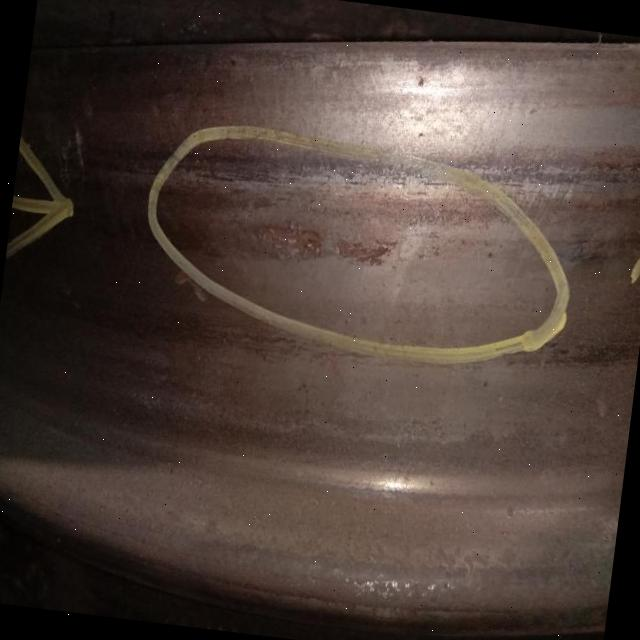Peeling: (250, 216, 402, 276)
